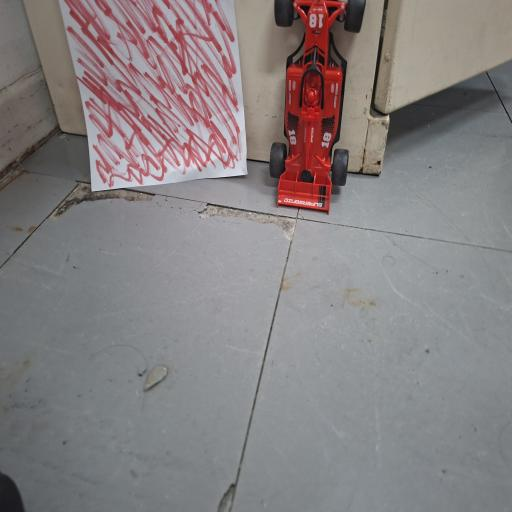carro: (270, 0, 365, 212)
